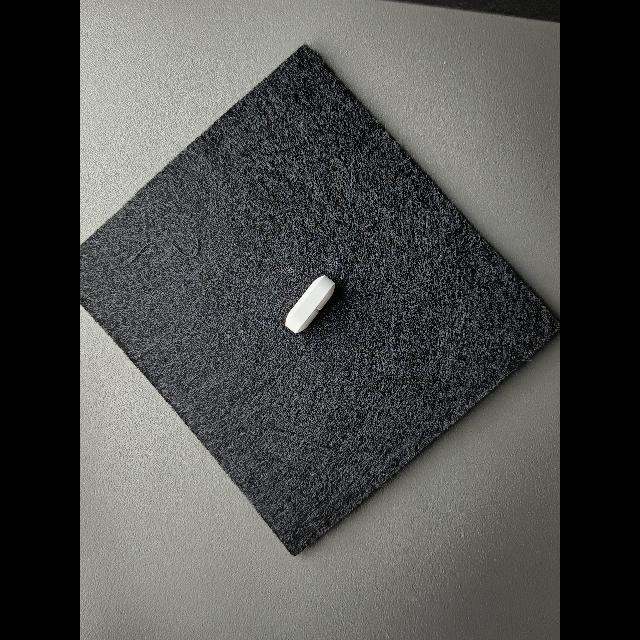Intact Pill: (285, 275, 335, 334)
